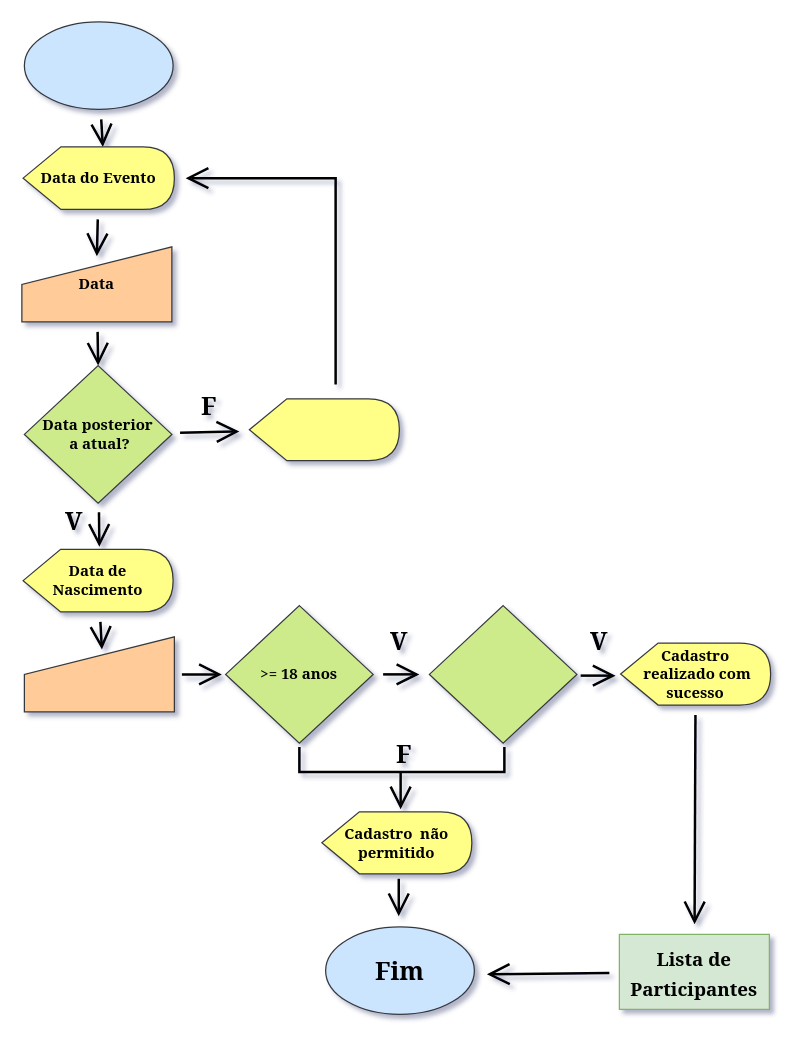
This 800x1044 diagram has some shape labels left out. The shapes that lost their labels are listed below. From the top down, each one's centre as x and y in pixels, then its label:
At [98,65]: "Cadastro de Eventos".
At [323,429]: "Data Invalida".
At [98,674]: "Idade".
At [502,673]: "Participantes < 100".
